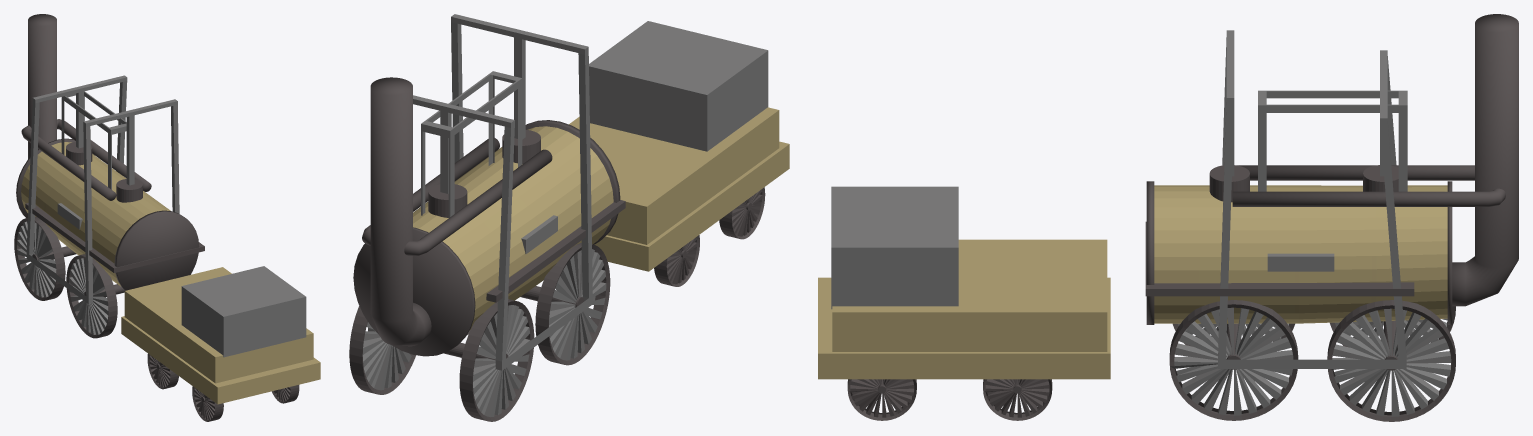
File: sdr-locomotion.dae
3 renders of one model, left to right at view 1: azimuth 30°, elevation 25°; view 2: azimuth 150°, elevation 25°; view 3: azimuth 270°, elevation 25°, orthographic. The views are drawn at different scales.
Parts seen in each view (by area): view 1: Cube_005, Cube_006, Cylinder_008, Cube_001, Cylinder_009, Cylinder_001, Cylinder_002, Cylinder, Cylinder_005, Cube_002, Cube, Cylinder_011 (+4 smaller); view 2: Cube_005, Cube_006, Cylinder_008, Cylinder_001, Cube_001, Cylinder_002, Cylinder_009, Cylinder, Cylinder_005, Cube, Cube_002, Cylinder_011 (+4 smaller); view 3: Cube_005, Cylinder_008, Cube_006, Cylinder_001, Cylinder_002, Cylinder, Cube_001, Cylinder_005, Cube, Cube_002, Cylinder_010, Cylinder_011 (+4 smaller).
Boxes of the visible parts, x1,y1,x2,y2 form: Cube_005: [121, 267, 320, 404]; Cube_006: [181, 266, 306, 357]; Cylinder_008: [21, 142, 170, 286]; Cube_001: [26, 75, 179, 303]; Cylinder_009: [16, 138, 199, 290]; Cylinder_001: [28, 14, 56, 158]; Cylinder_002: [14, 216, 76, 300]; Cylinder: [66, 254, 190, 338]; Cylinder_005: [21, 119, 151, 200]; Cube_002: [25, 203, 204, 272]; Cube: [61, 91, 126, 189]; Cylinder_011: [192, 385, 299, 421]; Cube_005: [569, 107, 789, 271]; Cube_006: [589, 21, 768, 151]; Cylinder_008: [413, 126, 613, 330]; Cylinder_001: [370, 77, 431, 346]; Cube_001: [368, 14, 592, 370]; Cylinder_002: [349, 299, 534, 421]; Cylinder_009: [353, 120, 620, 356]; Cylinder: [466, 243, 610, 365]; Cylinder_005: [362, 138, 552, 255]; Cube: [421, 71, 522, 217]; Cube_002: [486, 200, 625, 302]; Cylinder_011: [719, 187, 765, 239]; Cube_005: [818, 239, 1110, 379]; Cylinder_008: [1154, 185, 1447, 323]; Cube_006: [831, 186, 958, 309]; Cylinder_001: [1452, 14, 1518, 306]; Cylinder_002: [1327, 300, 1455, 421]; Cylinder: [1169, 300, 1298, 420]; Cube_001: [1218, 30, 1406, 368]; Cylinder_005: [1232, 165, 1505, 206]; Cube: [1258, 90, 1407, 191]; Cube_002: [1145, 221, 1414, 296]; Cylinder_010: [983, 379, 1052, 420]; Cylinder_011: [847, 379, 916, 420].
Size of the model in its own units: 1.96 by 7.65 by 4.42.
